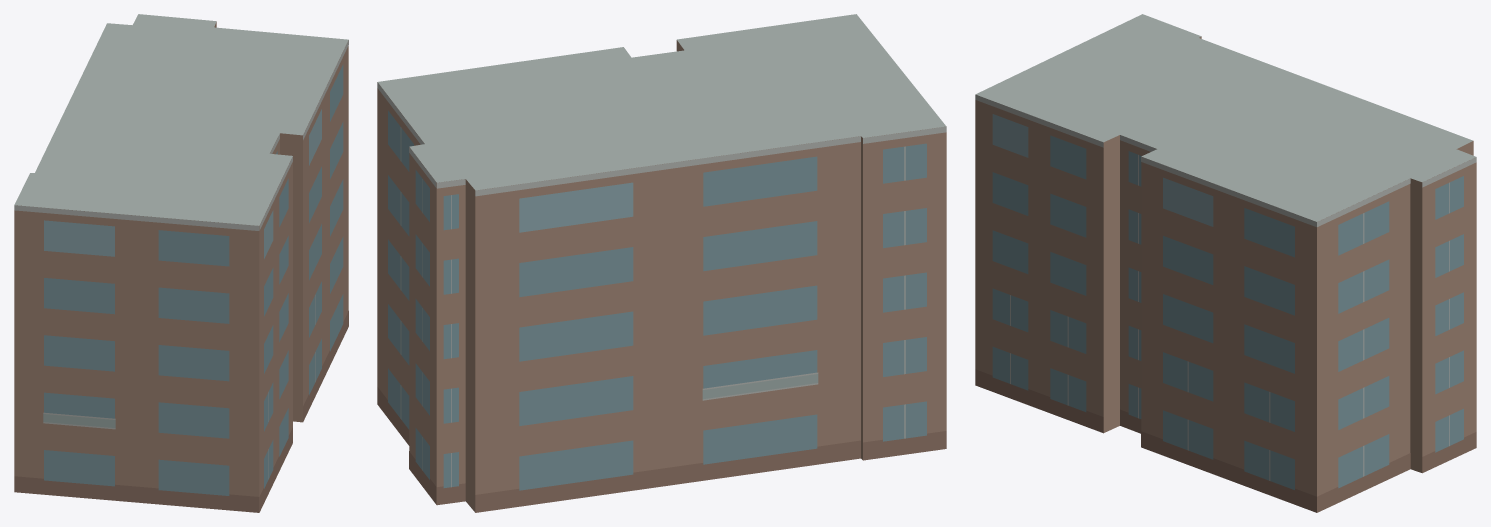
File: survey-upis-32935823.glb
The picture shows the model from 3 angles, left to right: view 1: azimuth 30°, elevation 25°; view 2: azimuth 150°, elevation 25°; view 3: azimuth 270°, elevation 25°; orthographic projection. The views are drawn at different scales.
Parts seen in each view (by area): view 1: survey-upis-32935823.tmp; view 2: survey-upis-32935823.tmp; view 3: survey-upis-32935823.tmp.
Boxes of the visible parts, <box> form: survey-upis-32935823.tmp: <box>14,14,348,512</box>; survey-upis-32935823.tmp: <box>377,14,946,512</box>; survey-upis-32935823.tmp: <box>975,14,1476,512</box>.
Size of the model in its own units: 20.4 by 13.3 by 20.78.
